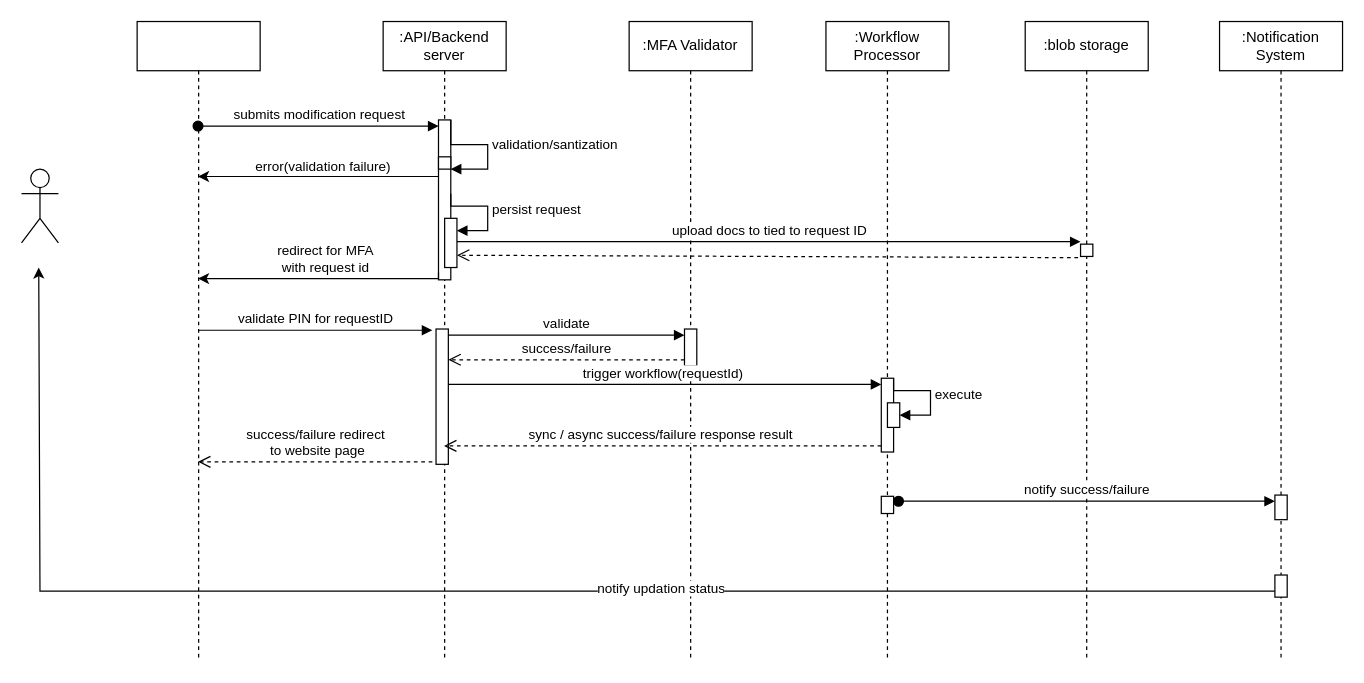
This 1364x683 diagram has some shape labels left out. Here are the shapes that lost their labels. From the top down, the box of each, then its label:
(20, 168, 58, 243): User
(136, 20, 260, 661): :UI
